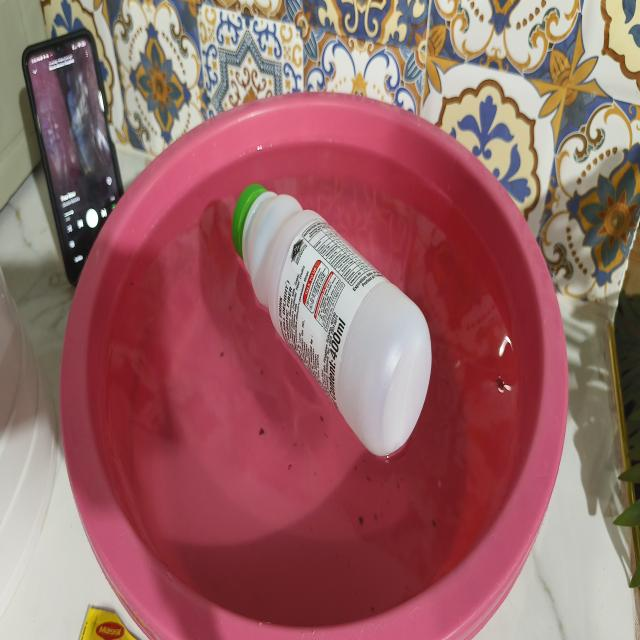Plastic Bottle: (209, 150, 444, 481)
